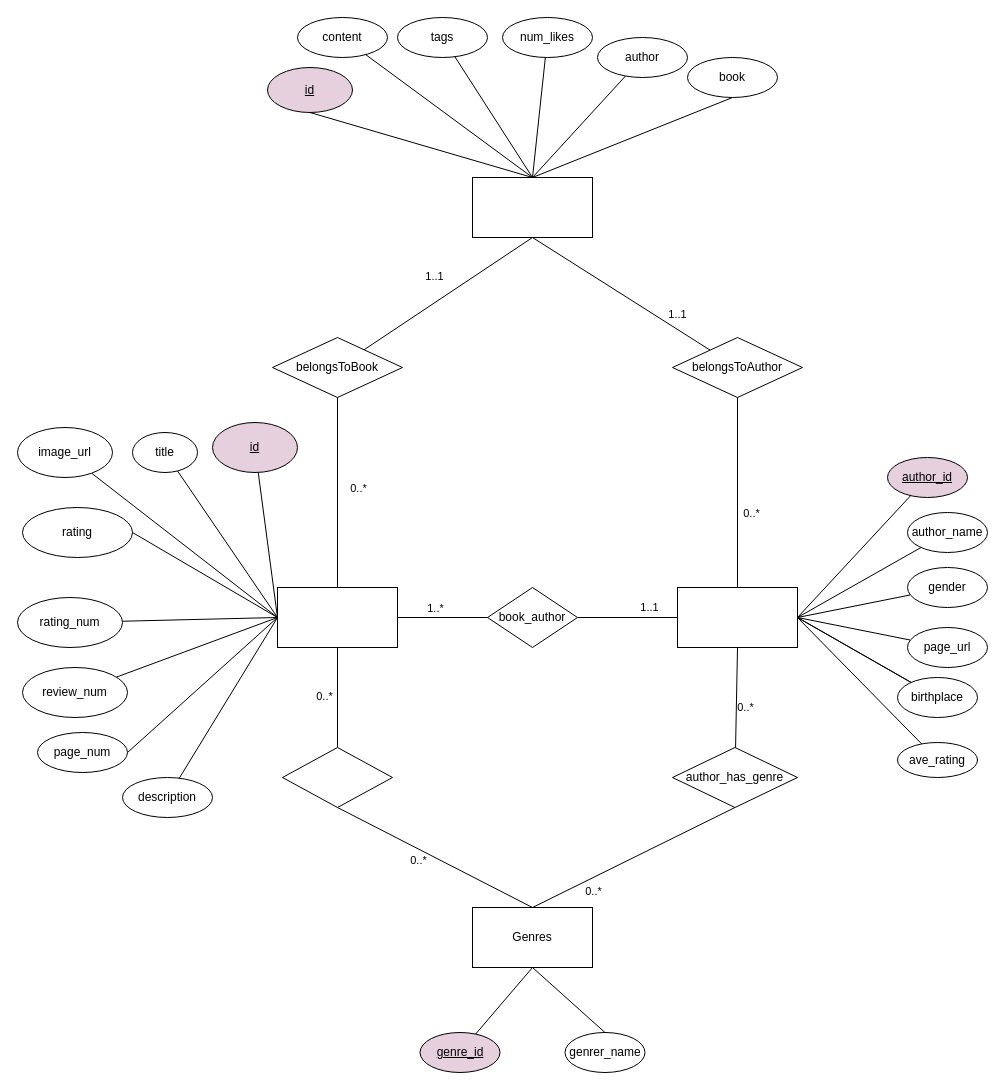
The diagram is 1005 pixels wide and 1090 high, and some of its shapes have lost their labels. Each missing label, with the centre of its shape:
Authors: the point at 737,617
book_has_genre: the point at 337,777
Books: the point at 337,617
Quotes: the point at 532,207
